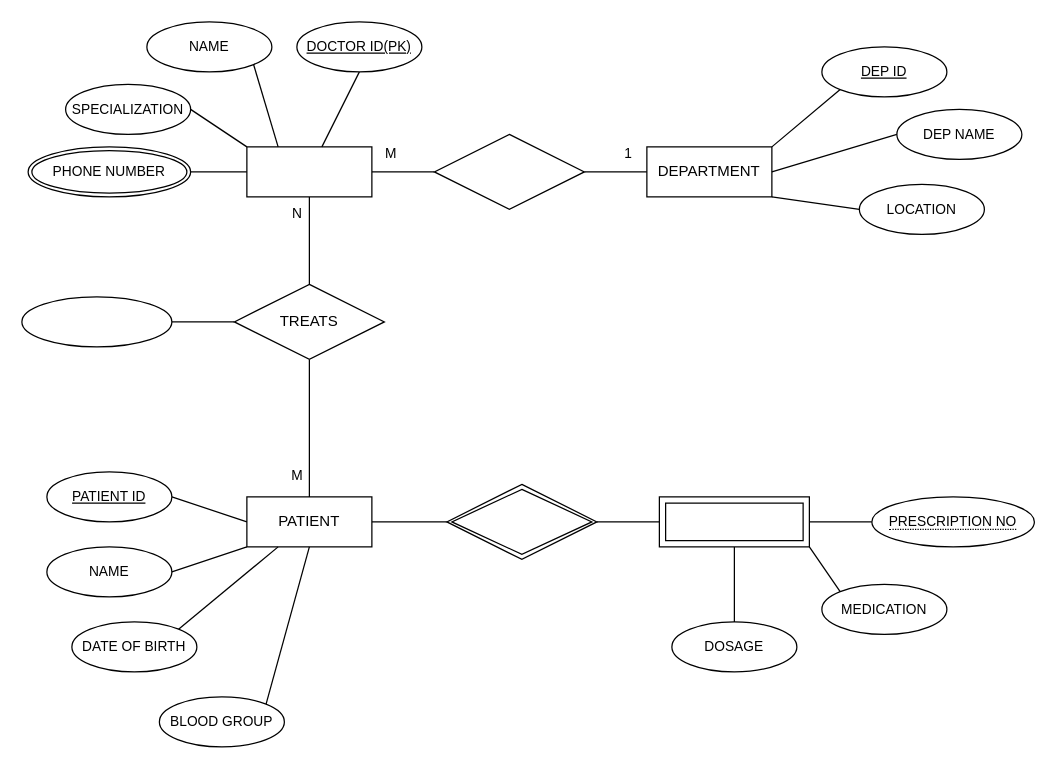
Image size: 1056x769. Some labels were removed from this diagram. Each missing label, with the centre of its shape:
"DIAGNOSIS DATE" goes at pixel 96 321.
"DOCTOR" goes at pixel 309 171.
"HAS" goes at pixel 521 521.
"PRESCRIPTION" goes at pixel 733 521.
"WORKS IN" goes at pixel 508 171.
